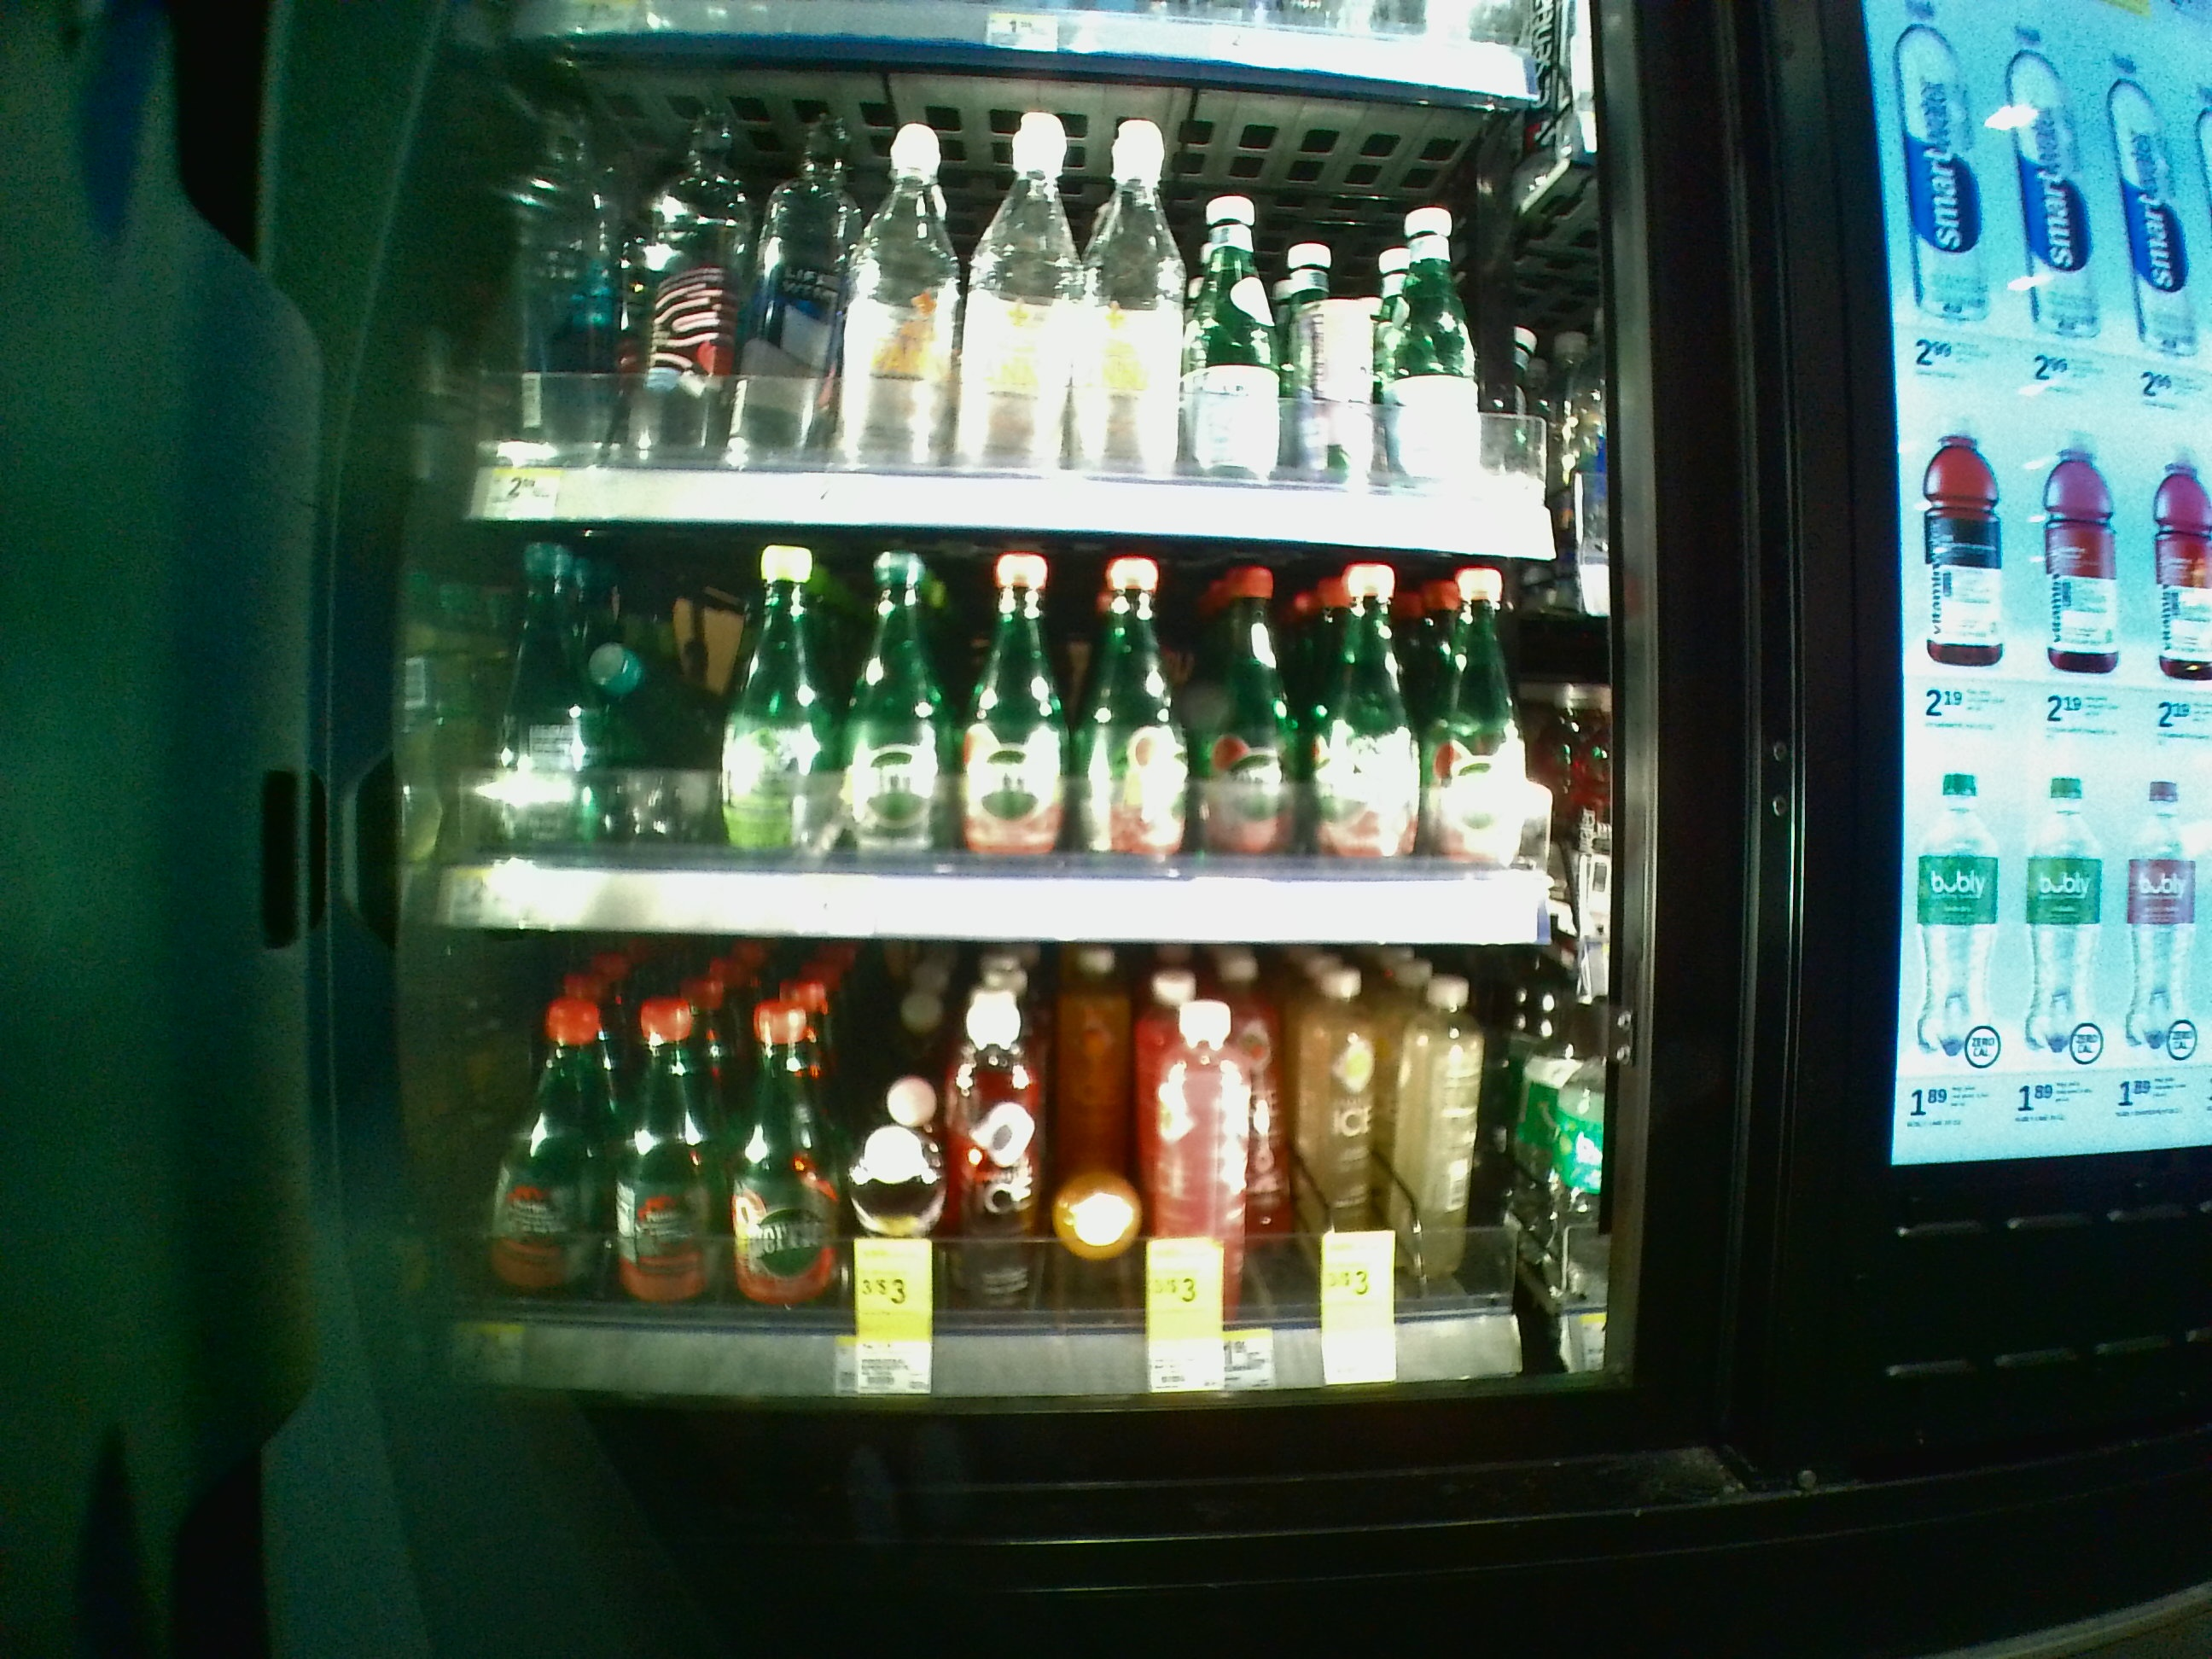Shelf: (435, 955, 1611, 1389), (434, 526, 1616, 950)
